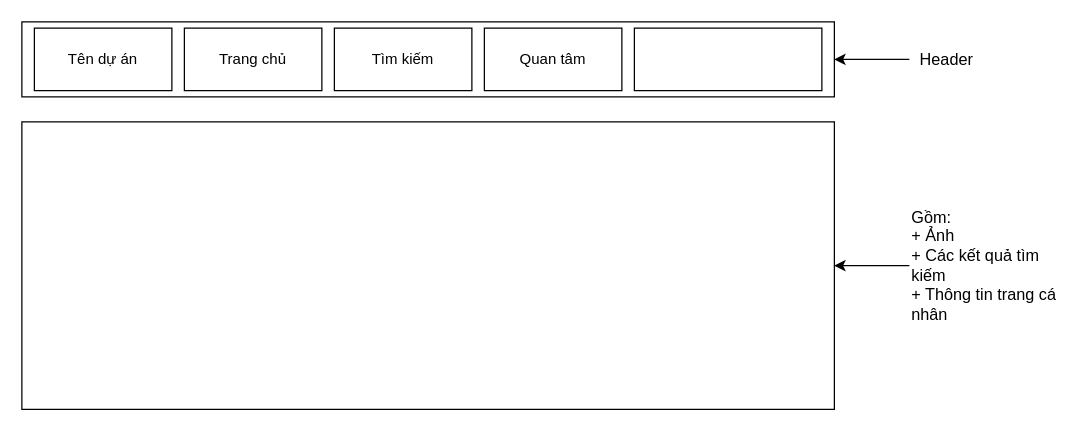
This 1081x431 diagram has some shape labels left out. Here are the shapes that lost their labels. From the top down, the centre of each, then its label:
(x=727, y=59): (Đăng nhập/Đăng ký) / Trang cá nhân
(x=427, y=265): Body
